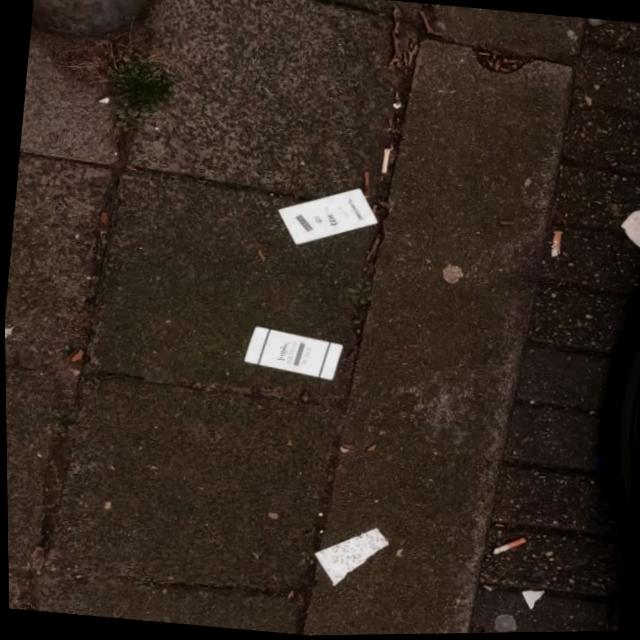Paper: (272, 181, 380, 254), (239, 324, 343, 383), (306, 521, 389, 593), (614, 206, 640, 260)
